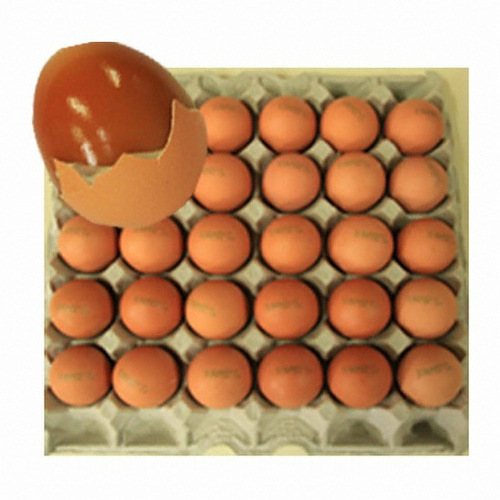egg: (53, 92, 468, 409), (28, 38, 201, 216)
